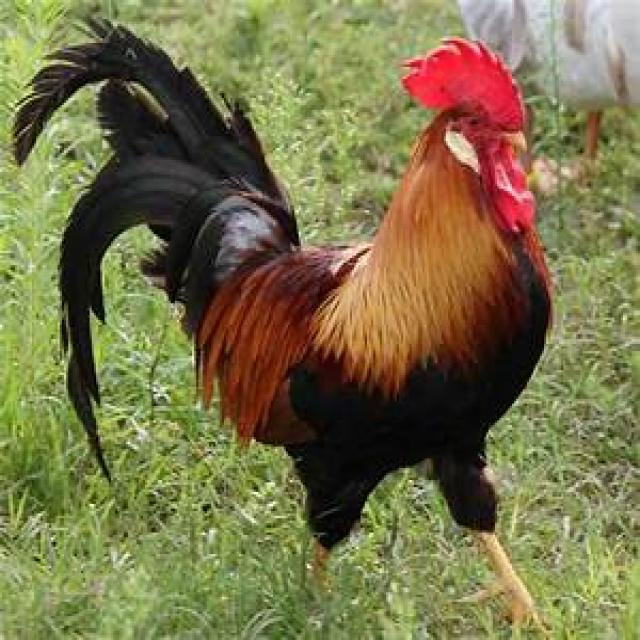hen: (28, 29, 555, 623)
